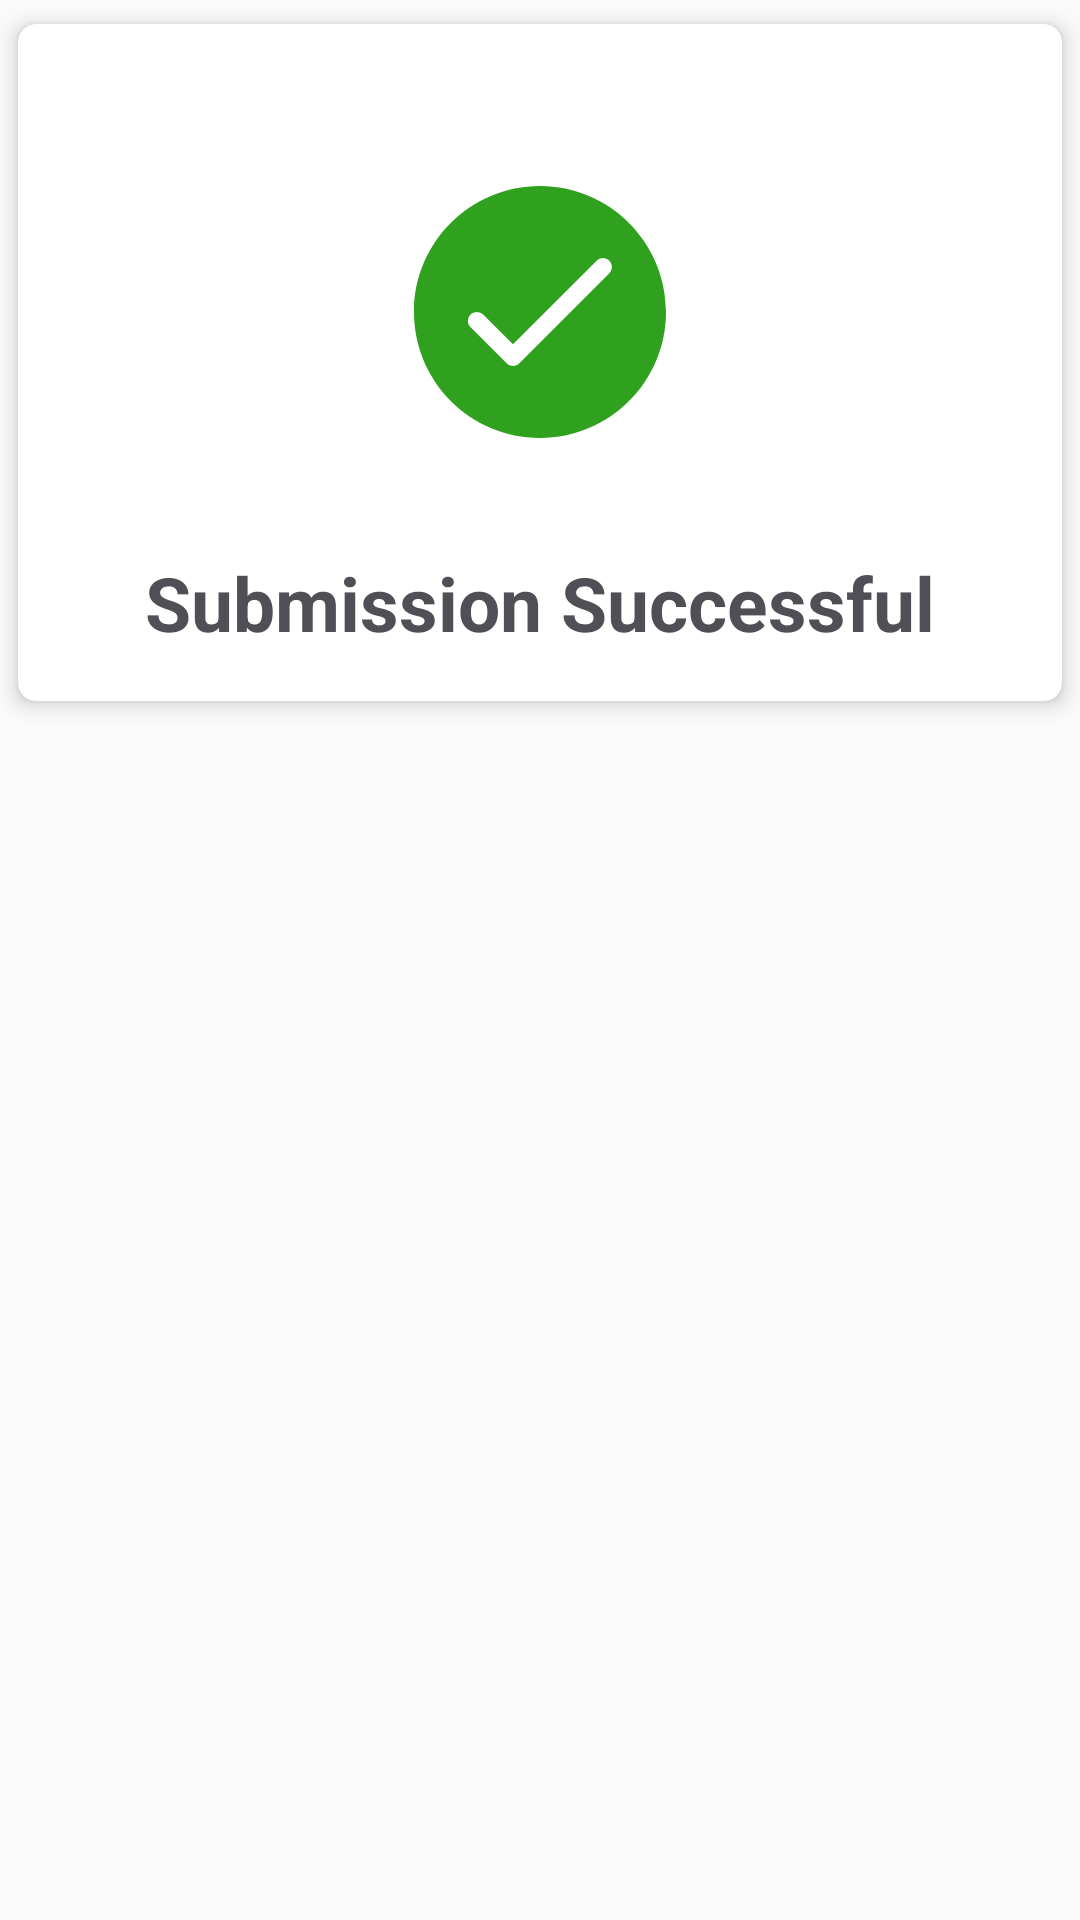

Icon click points for this 1080 x 1920 phone screenshot, format (x=x, y=y):
tick: (x=540, y=312)
